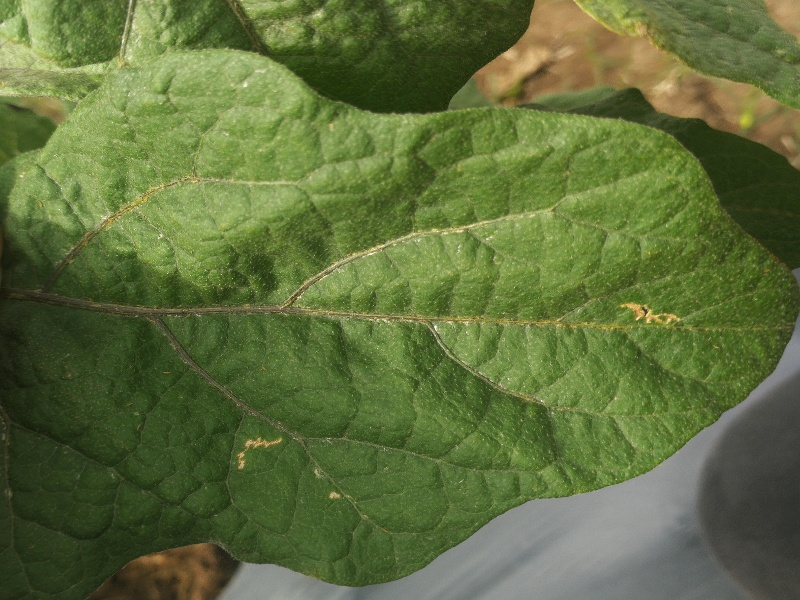leafminer: (227, 428, 293, 473), (615, 292, 684, 334)
